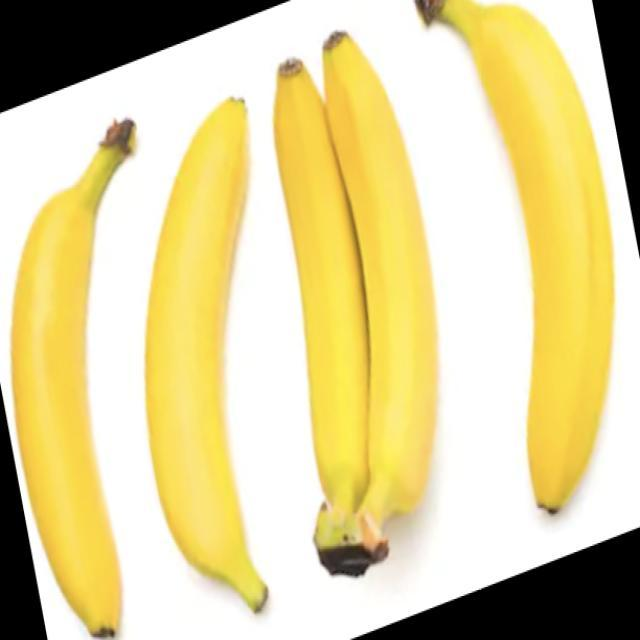Banana: (412, 0, 615, 515), (274, 31, 436, 575), (9, 116, 137, 639), (143, 94, 269, 614)
